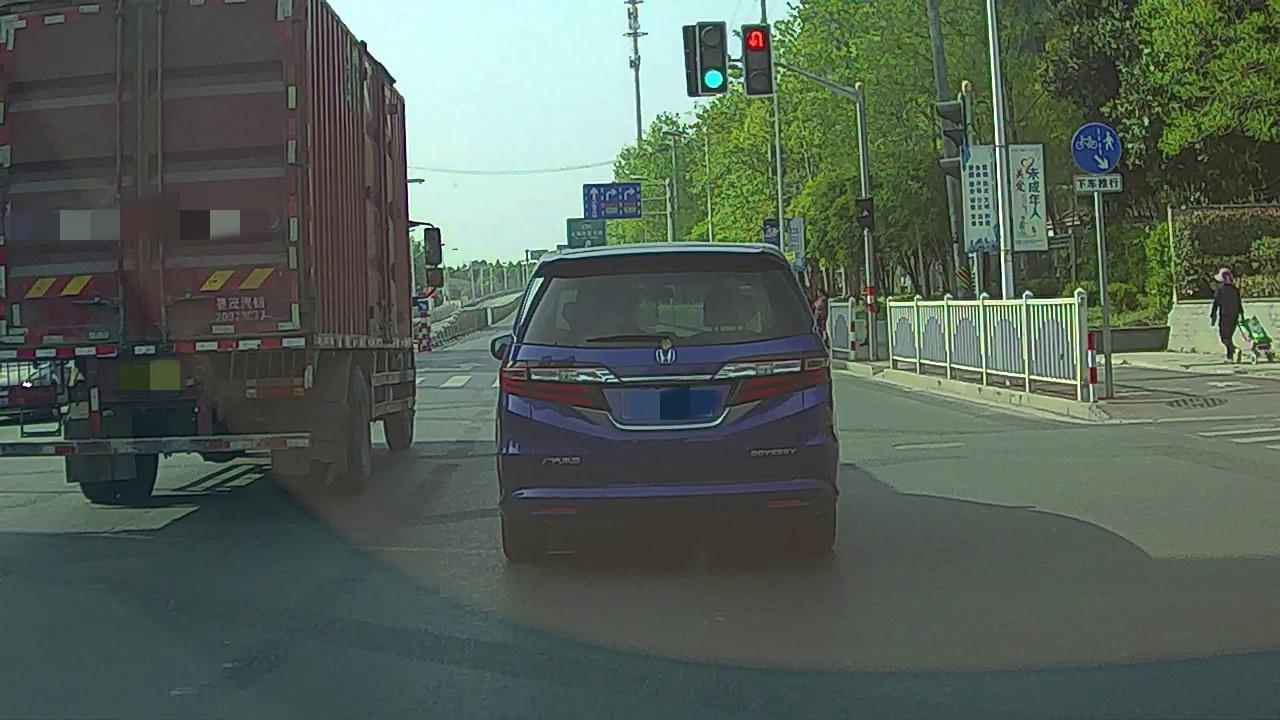traffic_light: (743, 27, 772, 97), (699, 21, 724, 93)
